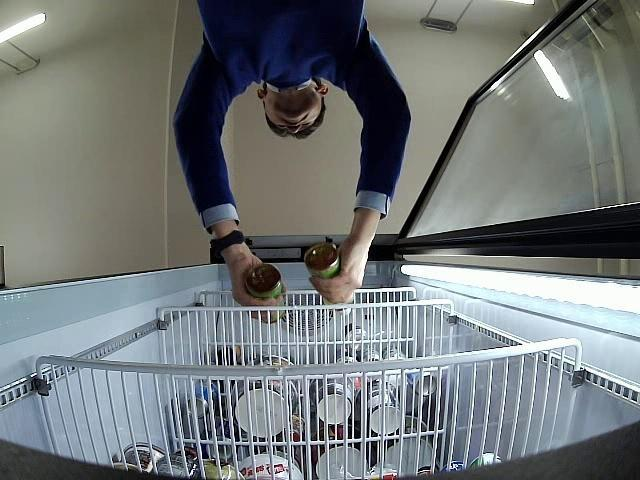19_17cha: (304, 241, 351, 316), (244, 261, 286, 323)
